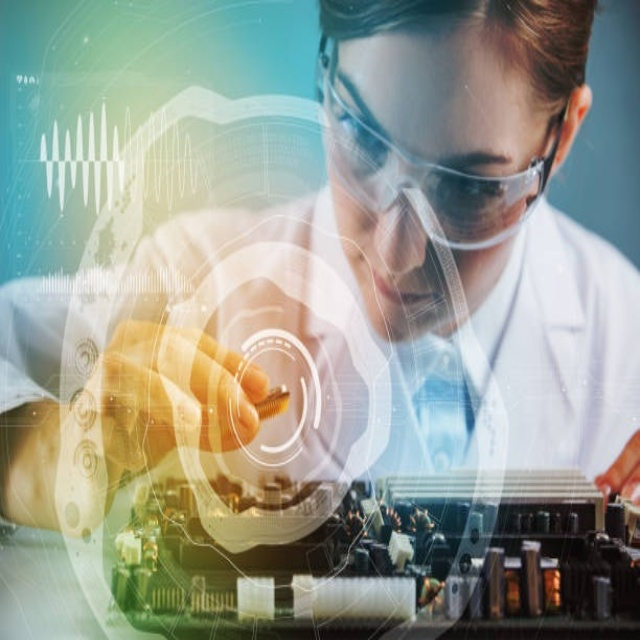Gafas: (320, 35, 561, 247)
Sin_guantes: (79, 317, 276, 485)
Sin_mascara: (352, 248, 453, 344)
